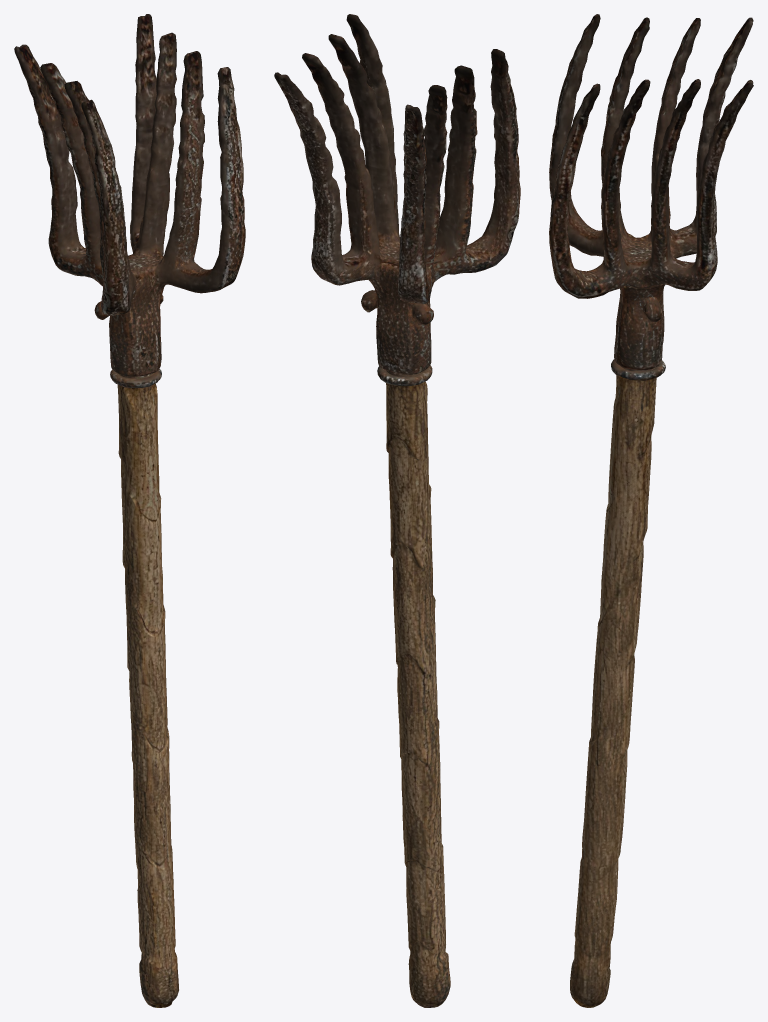
Rendered from melee_pitchfork.glb.
3 renders of one model, left to right at view 1: azimuth 30°, elevation 25°; view 2: azimuth 150°, elevation 25°; view 3: azimuth 270°, elevation 25°, orthographic. The views are drawn at different scales.
Parts seen in each view (by area): view 1: melee_pitchfork; view 2: melee_pitchfork; view 3: melee_pitchfork.
Boxes of the visible parts, x1,y1,x2,y2 form: melee_pitchfork: (14,14,245,1007); melee_pitchfork: (274,14,520,1007); melee_pitchfork: (549,14,753,1007).
Size of the model in its own units: 0.2196 by 1.3 by 0.2528.
1 material, 1 textured.
